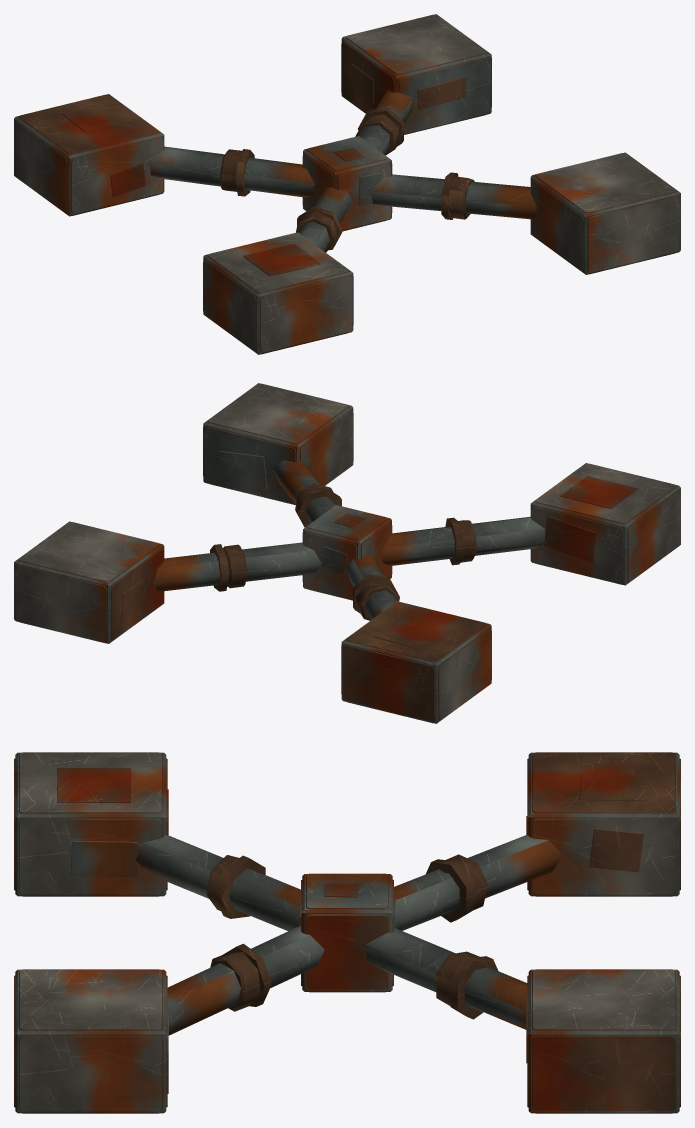
The model's file is R4C_ROD_CROSS.glb.
The picture shows the model from 3 angles, top to bottom: view 1: azimuth 30°, elevation 25°; view 2: azimuth 150°, elevation 25°; view 3: azimuth 270°, elevation 25°; orthographic projection. The views are drawn at different scales.
Parts seen in each view (by area): view 1: R4C_ROD_CROSS; view 2: R4C_ROD_CROSS; view 3: R4C_ROD_CROSS.
Part boxes in pixels (box(x1,y1,x2,y2)): R4C_ROD_CROSS: box(14, 14, 680, 354); R4C_ROD_CROSS: box(14, 383, 680, 723); R4C_ROD_CROSS: box(14, 752, 680, 1113).
Bounding box in the file's own units: 1.62 × 0.232 × 1.62.
4 materials, 4 textured.
